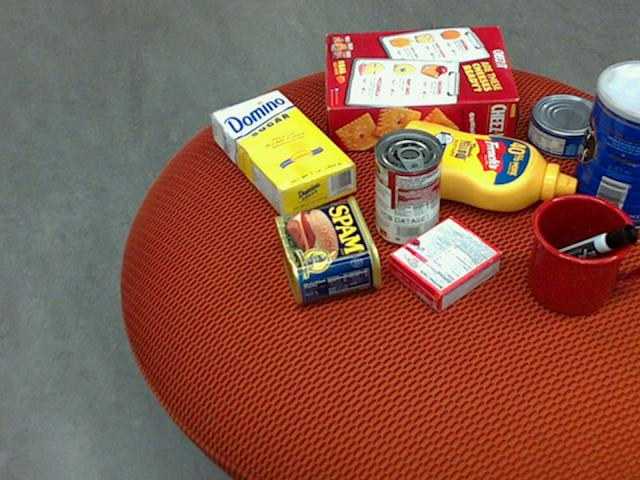cracker_box: (325, 25, 518, 150)
gelatin_box: (386, 217, 502, 313)
large_marker: (533, 222, 639, 274)
master_chef_can: (567, 60, 639, 229)
mug: (527, 193, 639, 315)
mustard_bottle: (388, 120, 575, 211)
potted_meat_can: (273, 194, 382, 304)
sugar_box: (209, 88, 356, 220)
tomato_soup_can: (373, 126, 442, 245)
tuna_fish_can: (524, 93, 603, 158)
